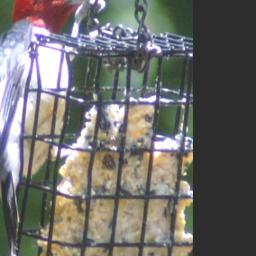Woodpecker: (0, 0, 119, 256)
